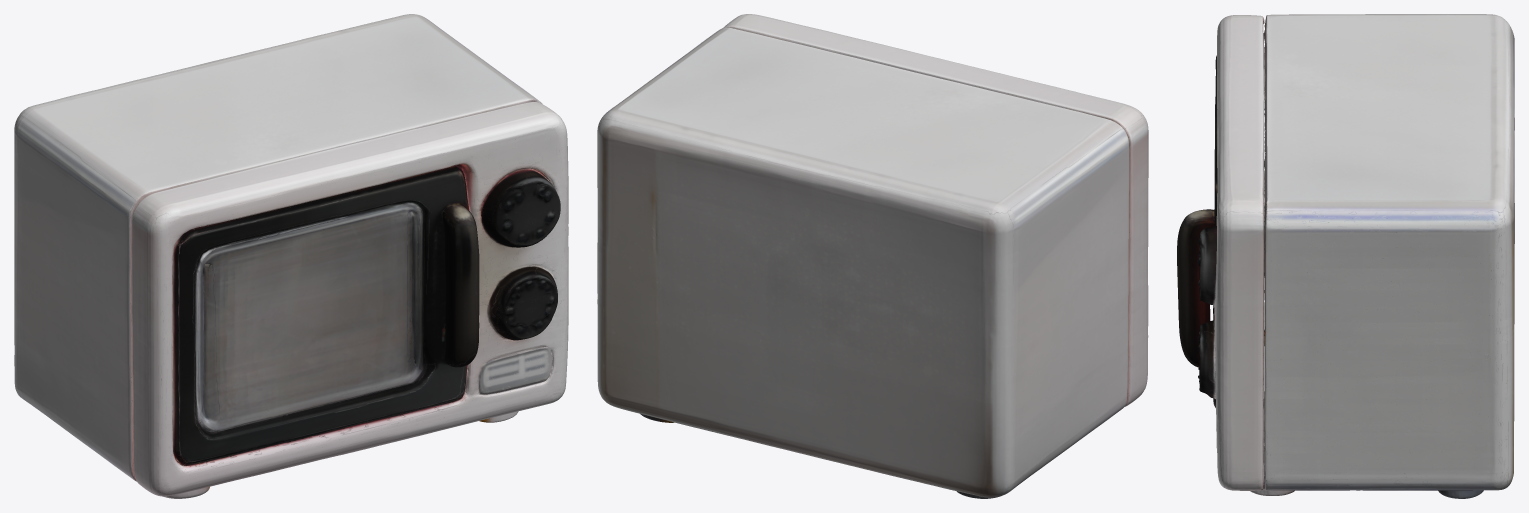
The model's file is selected_22.glb.
3 renders of one model, left to right at view 1: azimuth 30°, elevation 25°; view 2: azimuth 150°, elevation 25°; view 3: azimuth 270°, elevation 25°, orthographic.
Visible parts, largest first — view 1: world; view 2: world; view 3: world.
Boxes of the visible parts, box(x1,y1,x2,y2) form: world: box(14, 14, 568, 498); world: box(597, 14, 1148, 498); world: box(1177, 14, 1514, 498).
Bounding box in the file's own units: 0.9991 × 0.7001 × 0.7046.
1 material, 1 textured.
